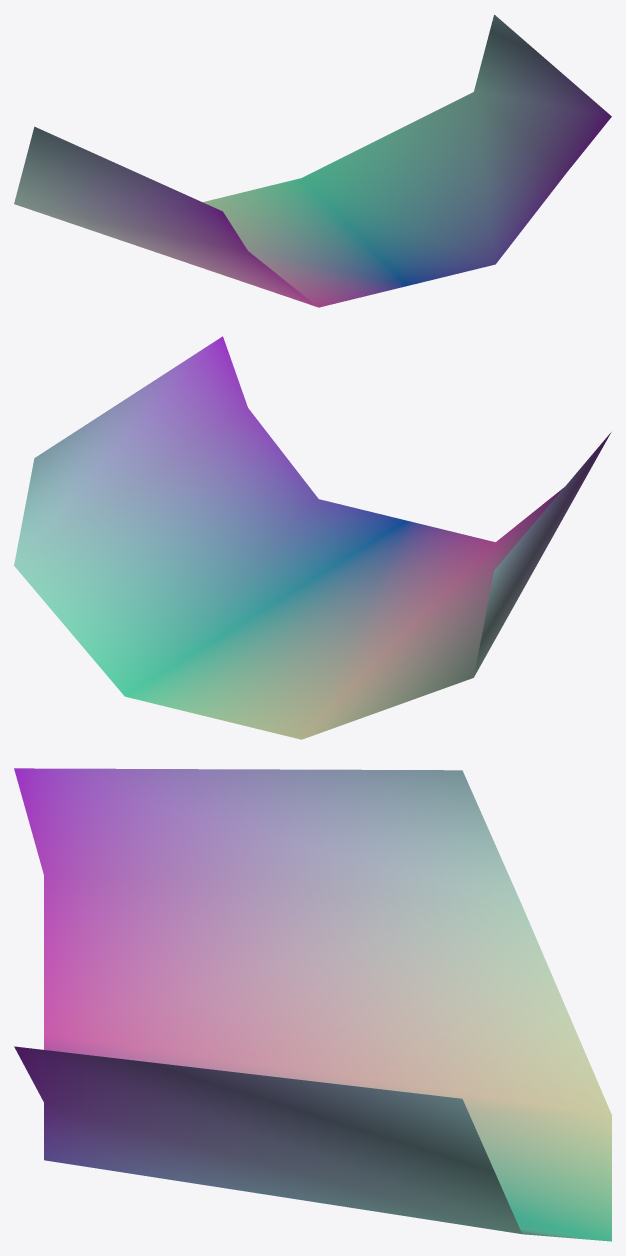
The picture shows the model from 3 angles, top to bottom: view 1: azimuth 30°, elevation 25°; view 2: azimuth 150°, elevation 25°; view 3: azimuth 270°, elevation 25°; orthographic projection. The views are drawn at different scales.
Parts seen in each view (by area): view 1: part; view 2: part; view 3: part.
Boxes of the visible parts, bbox=[...] form: part: bbox=[14, 14, 611, 307]; part: bbox=[14, 336, 611, 739]; part: bbox=[14, 768, 611, 1241].
Size of the model in its own units: 26 by 10 by 20.
